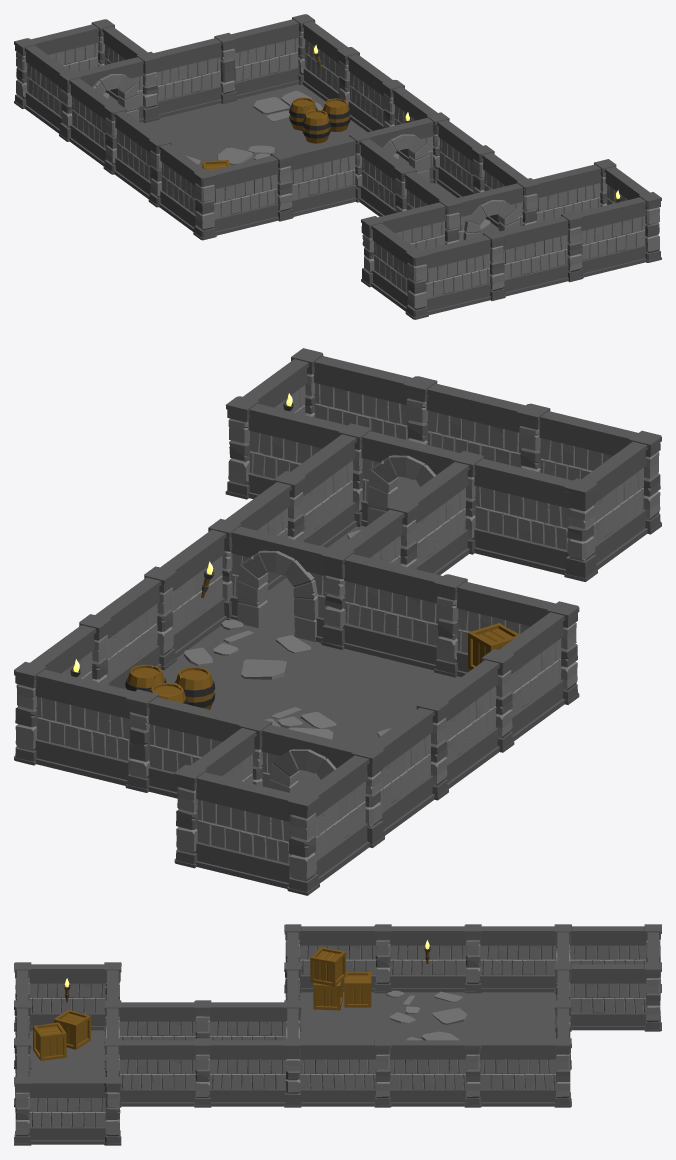
The model's file is dungeon.gltf.
The picture shows the model from 3 angles, top to bottom: view 1: azimuth 30°, elevation 25°; view 2: azimuth 150°, elevation 25°; view 3: azimuth 270°, elevation 25°; orthographic projection. The views are drawn at different scales.
Parts seen in each view (by area): view 1: Pillar 1.017, Pillar 3.002, Pillar 2.002, Pillar 1.005, Pillar 1.016, Pillar 2.003, Pillar 3.004, Pillar 1.006, Pillar 1.014, Pillar 1.007, Pillar 1.018, Pillar 1.008 (+22 smaller); view 2: Pillar 2.004, Pillar 2.003, Pillar 3.002, Pillar 3.005, Doorway.001, Pillar 1.018, Pillar 1.017, Pillar 1.013, Pillar 1.007, Pillar 1.006, Pillar 1.008, Pillar 1.014 (+24 smaller); view 3: Pillar 1.001, Pillar 1.015, Pillar 1.009, Pillar 1.003, Pillar 1.004, Pillar 1.019, Pillar 1.008, Pillar 1.007, Pillar 1.010, Pillar 1.014, Pillar 1.011, Pillar 1.006 (+28 smaller).
Boxes of the visible parts, box(x1,y1,x2,y2) form: Pillar 1.017: box(500, 210, 583, 296); Pillar 3.002: box(214, 19, 299, 103); Pillar 2.002: box(136, 38, 222, 122); Pillar 1.005: box(210, 150, 293, 235); Pillar 1.016: box(423, 230, 505, 314); Pillar 2.003: box(288, 131, 371, 216); Pillar 3.004: box(578, 197, 646, 277); Pillar 1.006: box(159, 144, 216, 240); Pillar 1.014: box(371, 223, 428, 319); Pillar 1.007: box(114, 111, 171, 207); Pillar 1.018: box(14, 38, 69, 133); Pillar 1.008: box(69, 78, 126, 174); Pillar 2.004: box(473, 458, 597, 581); Pillar 2.003: box(321, 546, 442, 670); Pillar 3.002: box(34, 669, 159, 792); Pillar 3.005: box(195, 772, 294, 888); Doorway.001: box(208, 518, 329, 642); Pillar 1.018: box(287, 755, 369, 895); Pillar 1.017: box(404, 376, 525, 467); Pillar 1.013: box(225, 396, 347, 499); Pillar 1.007: box(434, 649, 514, 788); Pillar 1.006: box(499, 601, 579, 740); Pillar 1.008: box(368, 696, 448, 835); Pillar 1.014: box(581, 430, 661, 569); Pillar 1.001: box(480, 1038, 571, 1107); Pillar 1.015: box(14, 1076, 105, 1145); Pillar 1.009: box(194, 1038, 286, 1107); Pillar 1.003: box(390, 1038, 481, 1107); Pillar 1.004: box(300, 1038, 391, 1107); Pillar 1.019: box(570, 962, 661, 1031); Pillar 1.008: box(464, 924, 556, 993); Pillar 1.007: box(374, 924, 466, 993); Pillar 1.010: box(104, 1038, 195, 1107); Pillar 1.014: box(14, 962, 105, 1031); Pillar 1.011: box(194, 1000, 285, 1040); Pillar 1.006: box(284, 924, 376, 993).
Bounding box in the file's own units: 16.77 × 3.16 × 28.77.
